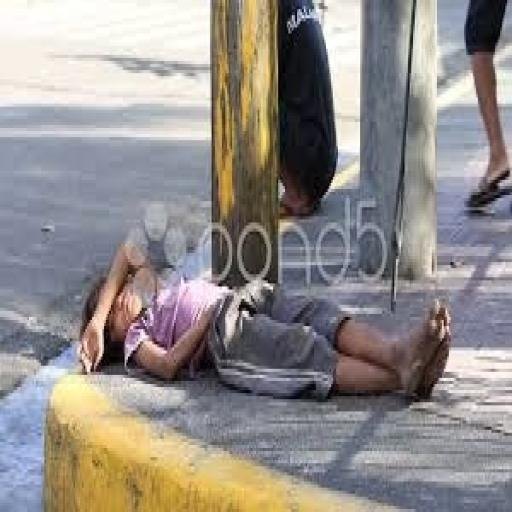sleeping: (75, 235, 454, 405)
